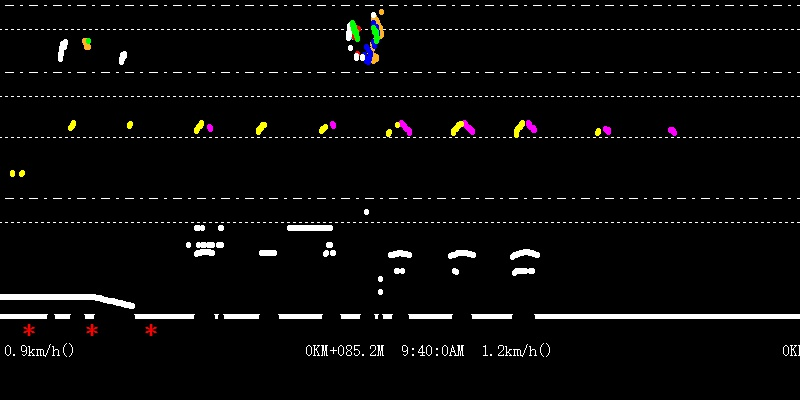J: (345, 3, 384, 65)
star: (140, 321, 160, 339), (84, 319, 98, 336), (20, 323, 37, 336)
